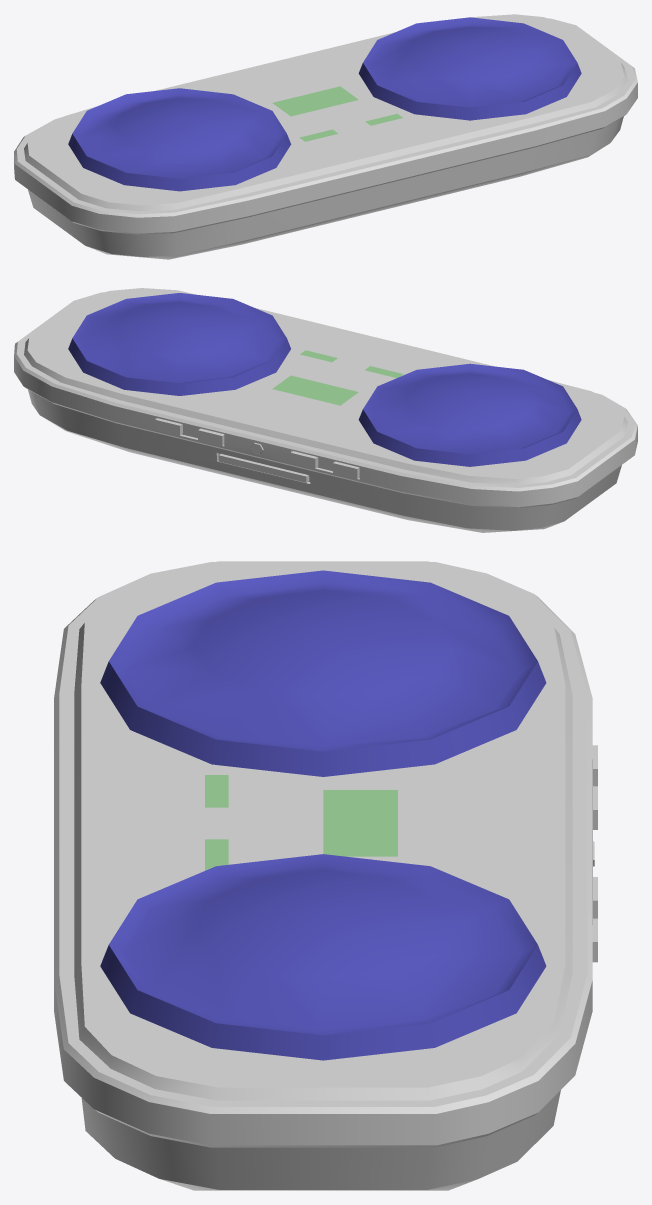
Rendered from FAS3FIIO.FBX.
3 views of the same model, one above another, from view 1: azimuth 30°, elevation 25°; view 2: azimuth 150°, elevation 25°; view 3: azimuth 270°, elevation 25° (orthographic). The views are drawn at different scales.
Parts seen in each view (by area): view 1: FAS3FIIO; view 2: FAS3FIIO; view 3: FAS3FIIO.
Boxes of the visible parts, x1,y1,x2,y2 form: FAS3FIIO: (14, 14, 637, 259); FAS3FIIO: (14, 288, 637, 532); FAS3FIIO: (54, 561, 597, 1190).
Size of the model in its own units: 15.6 by 6.53 by 2.34.
